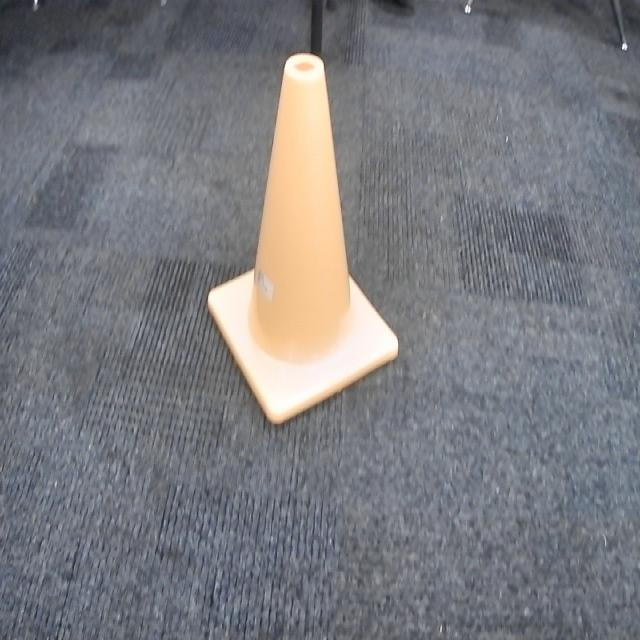cone: (206, 54, 403, 426)
